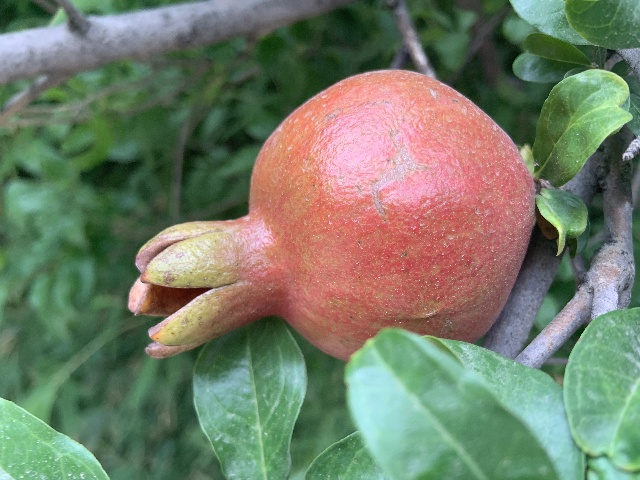ripe: (128, 69, 537, 361)
